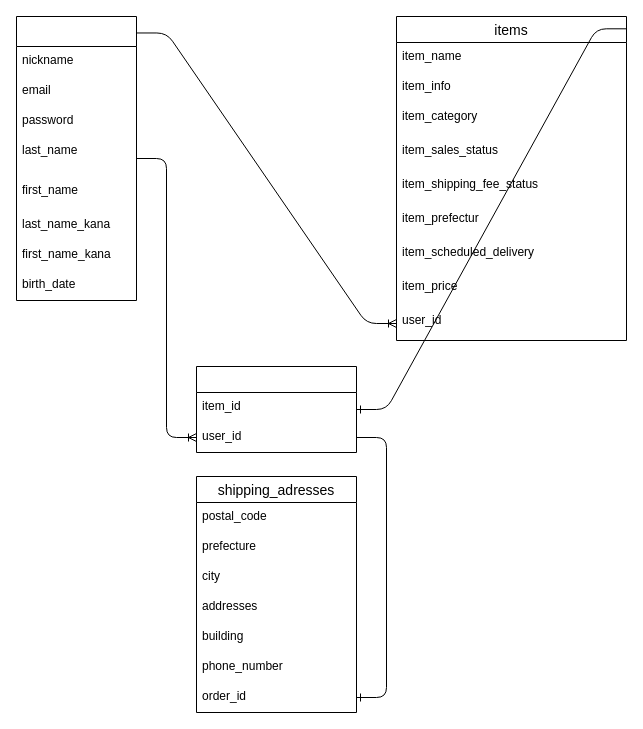
This 643x729 diagram has some shape labels left out. The box of each missing label's shape, as (x1, y1, x2, y2) in pixels:
orders: (196, 366, 356, 452)
users: (16, 16, 136, 300)
